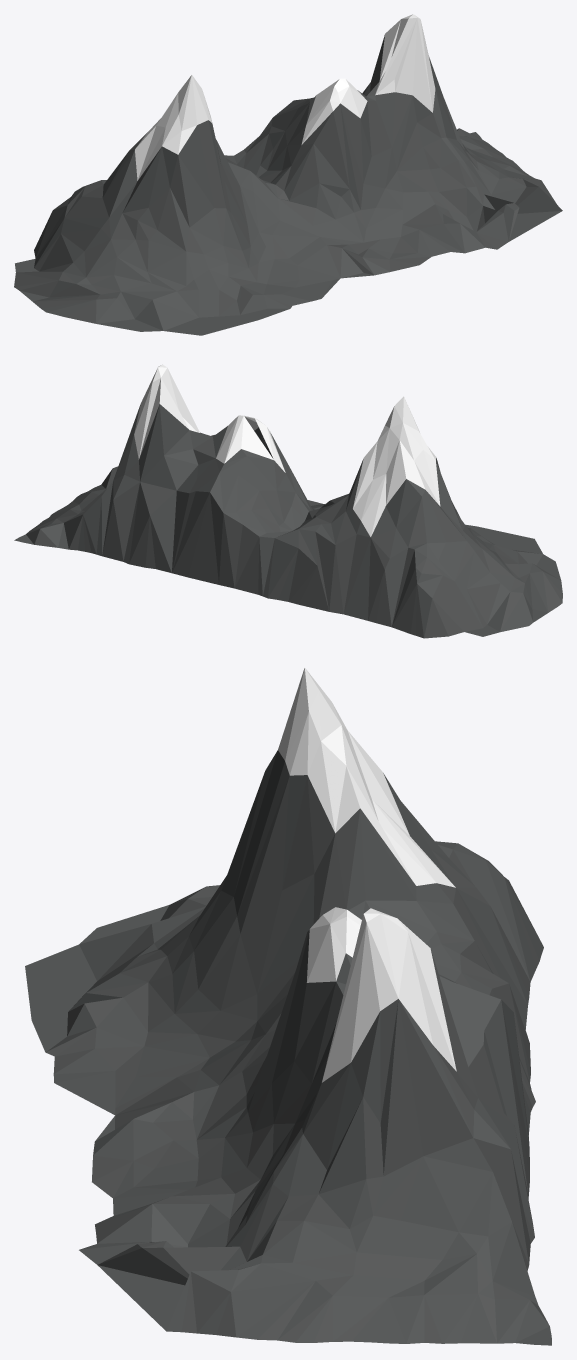
The model's file is obj_mountain3.fbx.
3 views of the same model, one above another, from view 1: azimuth 30°, elevation 25°; view 2: azimuth 150°, elevation 25°; view 3: azimuth 270°, elevation 25° (orthographic). The views are drawn at different scales.
Parts seen in each view (by area): view 1: obj_mountain3; view 2: obj_mountain3; view 3: obj_mountain3.
Boxes of the visible parts, x1=… form: obj_mountain3: x1=14, y1=14, x2=562, y2=335; obj_mountain3: x1=14, y1=364, x2=562, y2=638; obj_mountain3: x1=25, y1=667, x2=551, y2=1345.
Bounding box in the file's own units: 191 × 71.81 × 91.53.
Materials: 1 (1 with a texture image).
